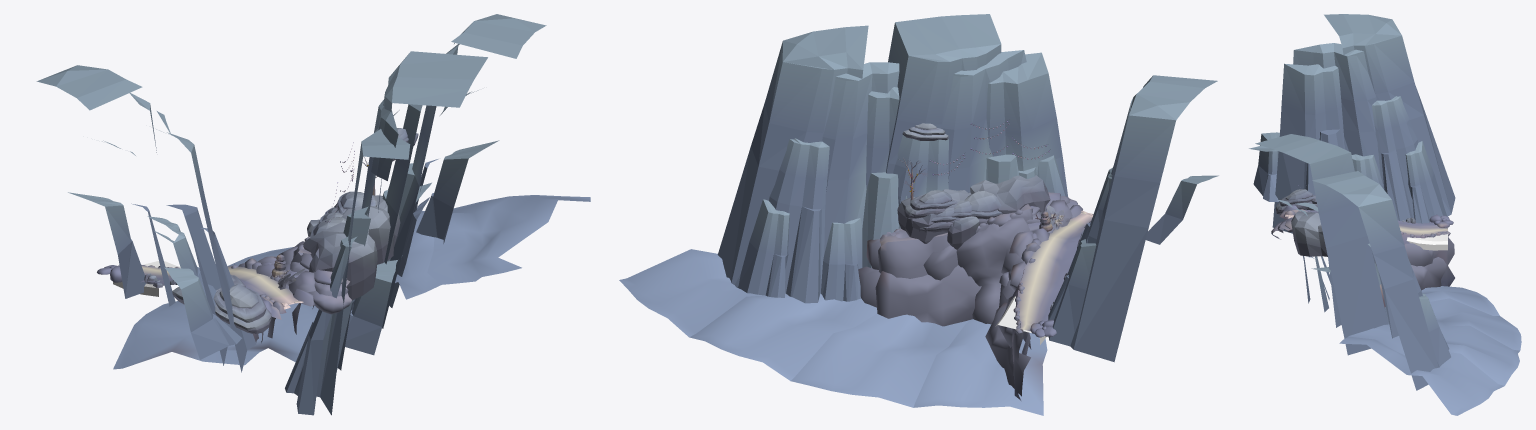
The model's file is Arctic_Narrows_Right_End_A.glb.
3 renders of one model, left to right at view 1: azimuth 30°, elevation 25°; view 2: azimuth 150°, elevation 25°; view 3: azimuth 270°, elevation 25°, orthographic. The views are drawn at different scales.
Parts seen in each view (by area): view 1: Arctic_Narrows_Right_End_A, Arctic_Narrows_Left_IceWall_A01 (1), Arctic_Narrows_Right_IceWall_A01 (1), Arctic_Narrows_Left_IceWall_A02 (1), Arctic_Narrows_Right_IceWall_A01_Left, Arctic_Narrows_Left_IceWall_A01_Right, Arctic_Narrows_SnowRock_A01 (2), Arctic_Narrows_Left_IceWall_A02_Left, Arctic_Narrows_Left_IceWall_A02_Right, Arctic_Narrows_Right_IceWall_A01_Right, Arctic_Narrows_SnowRock_A01, Arctic_Narrows_Left_IceWall_A02_Mid (+4 smaller); view 2: Arctic_Narrows_Right_End_A, Arctic_Narrows_Left_IceWall_A02 (1), Arctic_Narrows_Left_IceWall_A01 (1), Arctic_Narrows_Right_IceWall_A01 (1), Arctic_Narrows_Left_IceWall_A02_Left, Arctic_Narrows_Left_IceWall_A02_Mid, Arctic_Narrows_Left_IceWall_A01_Left, Arctic_Narrows_Right_IceWall_A01_Right, Arctic_Narrows_SnowRock_A01 (2), Arctic_Narrows_Right_IceWall_A01_Left, Arctic_Narrows_SnowRock_A01, Arctic_Narrows_Right_IceWall_A01_Mid (+3 smaller); view 3: Arctic_Narrows_Right_IceWall_A01 (1), Arctic_Narrows_Right_End_A, Arctic_Narrows_Left_IceWall_A01 (1), Arctic_Narrows_Left_IceWall_A02 (1), Arctic_Narrows_Right_IceWall_A01_Mid, Arctic_Narrows_Right_IceWall_A01_Right, Arctic_Narrows_SnowRock_A01 (2), Arctic_Narrows_Right_IceWall_A01_Left, Arctic_Narrows_Left_IceWall_A02_Left, inv_fill.
Boxes of the visible parts, x1=… form: Arctic_Narrows_Right_End_A: x1=97, y1=195, x2=590, y2=369; Arctic_Narrows_Left_IceWall_A01 (1): x1=316, y1=51, x2=487, y2=415; Arctic_Narrows_Right_IceWall_A01 (1): x1=36, y1=65, x2=256, y2=372; Arctic_Narrows_Left_IceWall_A02 (1): x1=354, y1=14, x2=546, y2=328; Arctic_Narrows_Right_IceWall_A01_Left: x1=160, y1=222, x2=241, y2=359; Arctic_Narrows_Left_IceWall_A01_Right: x1=285, y1=236, x2=357, y2=415; Arctic_Narrows_SnowRock_A01 (2): x1=302, y1=222, x2=377, y2=300; Arctic_Narrows_Left_IceWall_A02_Left: x1=413, y1=90, x2=499, y2=243; Arctic_Narrows_Left_IceWall_A02_Right: x1=345, y1=260, x2=397, y2=355; Arctic_Narrows_Right_IceWall_A01_Right: x1=68, y1=192, x2=146, y2=298; Arctic_Narrows_SnowRock_A01: x1=334, y1=195, x2=400, y2=264; Arctic_Narrows_Left_IceWall_A02_Mid: x1=352, y1=182, x2=431, y2=307; Arctic_Narrows_Right_End_A: x1=619, y1=192, x2=1093, y2=415; Arctic_Narrows_Left_IceWall_A02 (1): x1=717, y1=25, x2=907, y2=287; Arctic_Narrows_Left_IceWall_A01 (1): x1=886, y1=14, x2=1067, y2=196; Arctic_Narrows_Right_IceWall_A01 (1): x1=1070, y1=75, x2=1217, y2=362; Arctic_Narrows_Left_IceWall_A02_Left: x1=738, y1=138, x2=829, y2=303; Arctic_Narrows_Left_IceWall_A02_Mid: x1=821, y1=218, x2=862, y2=301; Arctic_Narrows_Left_IceWall_A01_Left: x1=893, y1=135, x2=948, y2=223; Arctic_Narrows_Right_IceWall_A01_Right: x1=1048, y1=239, x2=1096, y2=346; Arctic_Narrows_SnowRock_A01 (2): x1=970, y1=175, x2=1050, y2=213; Arctic_Narrows_Right_IceWall_A01_Left: x1=1145, y1=175, x2=1218, y2=244; Arctic_Narrows_SnowRock_A01: x1=897, y1=189, x2=969, y2=243; Arctic_Narrows_Right_IceWall_A01_Mid: x1=1067, y1=167, x2=1112, y2=275; Arctic_Narrows_Right_IceWall_A01 (1): x1=1272, y1=14, x2=1455, y2=233; Arctic_Narrows_Right_End_A: x1=1271, y1=205, x2=1521, y2=415; Arctic_Narrows_Left_IceWall_A01 (1): x1=1249, y1=134, x2=1388, y2=355; Arctic_Narrows_Left_IceWall_A02 (1): x1=1312, y1=171, x2=1439, y2=390; Arctic_Narrows_Right_IceWall_A01_Mid: x1=1351, y1=96, x2=1418, y2=220; Arctic_Narrows_Right_IceWall_A01_Right: x1=1405, y1=141, x2=1446, y2=223; Arctic_Narrows_SnowRock_A01 (2): x1=1291, y1=211, x2=1327, y2=256; Arctic_Narrows_Right_IceWall_A01_Left: x1=1253, y1=132, x2=1279, y2=201; Arctic_Narrows_Left_IceWall_A02_Left: x1=1408, y1=259, x2=1450, y2=366; inv_fill: x1=1406, y1=234, x2=1447, y2=250.
Size of the model in its own units: 42.75 by 24.31 by 25.06.
